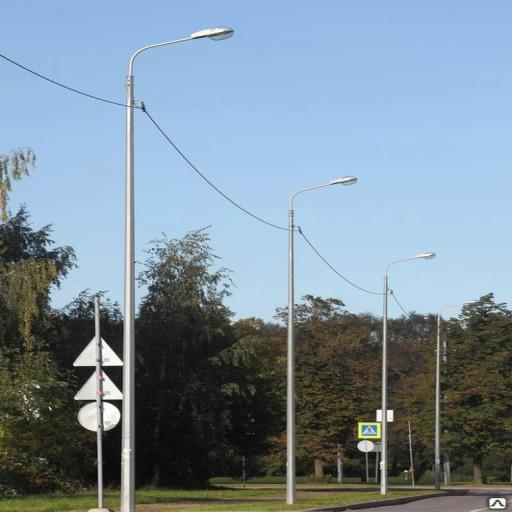Light-pole: (104, 14, 231, 512), (272, 156, 359, 512), (379, 242, 432, 498)
